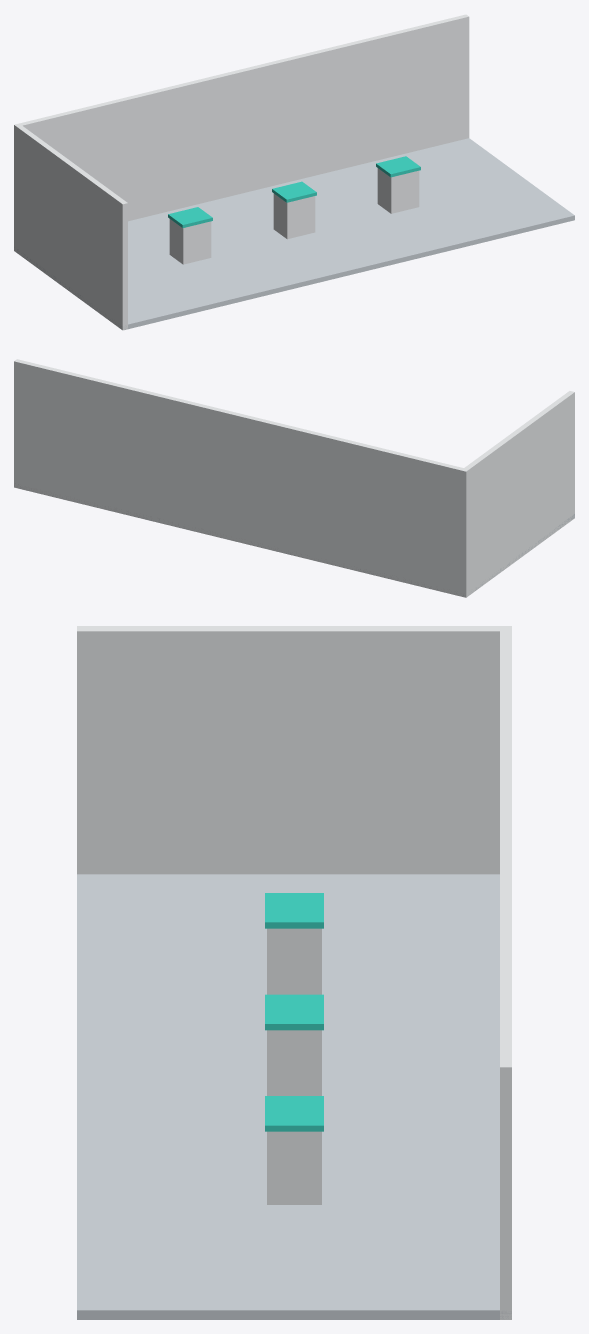
The picture shows the model from 3 angles, top to bottom: view 1: azimuth 30°, elevation 25°; view 2: azimuth 150°, elevation 25°; view 3: azimuth 270°, elevation 25°; orthographic projection. The views are drawn at different scales.
Visible parts, largest first — view 1: Exhibition Booth Concept; view 2: Exhibition Booth Concept; view 3: Exhibition Booth Concept.
Part boxes in pixels (x1,y1,x2,y2): Exhibition Booth Concept: [14, 14, 574, 330]; Exhibition Booth Concept: [14, 359, 574, 597]; Exhibition Booth Concept: [77, 626, 511, 1319].
Size of the model in its own units: 12 by 3.2 by 5.
